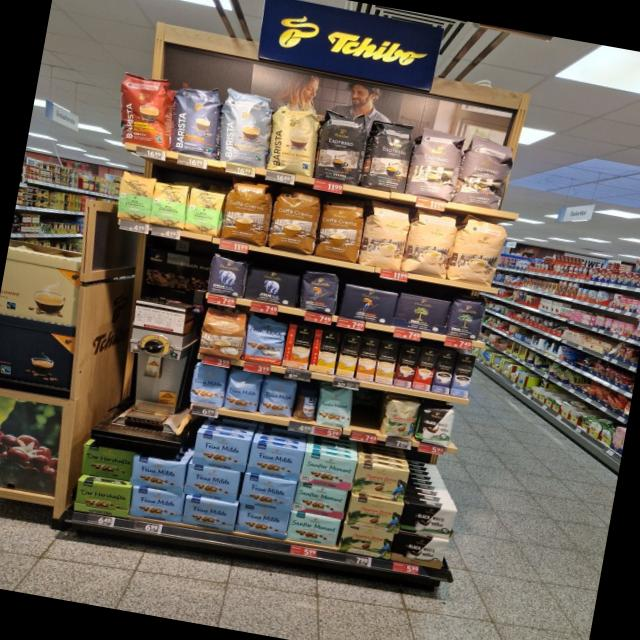AB Bohne: (203, 250, 250, 298)
AB Gemahlen: (244, 267, 300, 308)
Athiopien Bohne: (112, 169, 157, 225)
Athiopien Gemahlen: (182, 184, 225, 237), (147, 180, 190, 230)
BM Bohne: (445, 296, 487, 341)
BM Gemahlen: (394, 290, 452, 334)
BW Bohne: (416, 400, 456, 448)
BW Gemahlen: (389, 530, 449, 569), (400, 500, 458, 540)
Barista CB: (264, 102, 324, 177)
Barista CC: (213, 87, 277, 166)
Barista Espresso: (163, 82, 226, 158)
Barista Kolumbien: (119, 68, 173, 151)
CC Mild: (450, 212, 510, 286), (359, 198, 413, 270), (403, 206, 457, 278)
CC Vollmundig: (198, 303, 250, 360)
CC Vollmundig 36 Pads: (218, 174, 276, 245), (266, 186, 324, 255), (313, 194, 368, 262)
Colombia BB Bohne: (379, 394, 422, 442)
Colombia BB Gemahlen: (351, 460, 410, 503), (346, 493, 404, 533), (339, 520, 394, 558)
Espresso Kraftig: (312, 106, 372, 186), (358, 118, 418, 194)
Espresso M Art: (454, 130, 516, 211), (408, 125, 466, 201)
FM 36 Pads: (241, 313, 288, 367)
FM Bohne: (186, 361, 228, 409), (222, 368, 262, 414), (258, 374, 296, 418)
FM Gemahlen: (191, 430, 251, 473), (128, 454, 188, 496), (246, 439, 304, 482), (182, 462, 241, 504), (180, 493, 240, 533), (128, 486, 186, 526), (238, 472, 296, 510), (236, 502, 290, 540)
FM Instant: (292, 387, 321, 424)
Herzhatfe Mundig: (71, 477, 133, 519), (76, 442, 134, 482)
LG Bohne: (296, 267, 342, 314)
LG Gemahlen: (340, 283, 398, 325)
SM Bohne: (312, 384, 356, 429)
SM Gemahlen: (297, 449, 357, 492), (291, 480, 348, 520), (286, 510, 341, 546)
Simo CCMild: (308, 328, 340, 374)
Simo CCMild bigpack: (336, 333, 361, 378)
Simo CCVollmundig: (282, 324, 314, 369)
Simo CCVollmundig bigpack: (354, 336, 380, 382)
Simo Decaff: (374, 339, 398, 385)
Simo Es Brazil: (411, 346, 440, 391)
Simo Es Caramel: (393, 344, 421, 388)
Simo Es Kraft: (430, 349, 458, 394)
Simo Es Vanilla: (449, 352, 476, 397)
